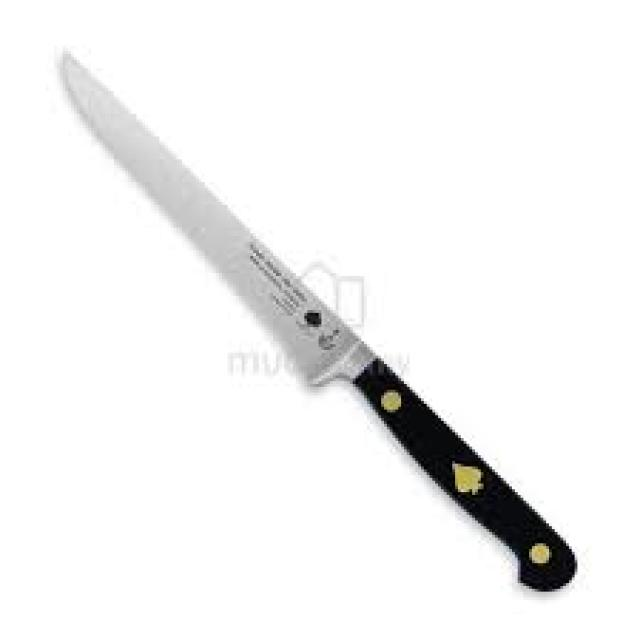Knife: (60, 51, 577, 586)
